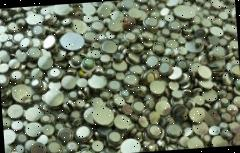electronic: (59, 28, 88, 50), (86, 73, 108, 96), (140, 14, 162, 35), (101, 38, 119, 54), (168, 18, 184, 34), (108, 78, 122, 94), (81, 57, 99, 69)
